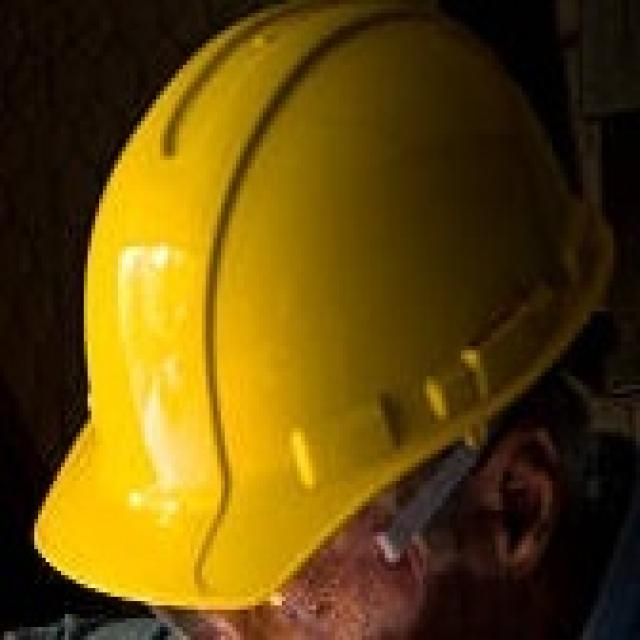helmet_yellow: (4, 2, 636, 638)
